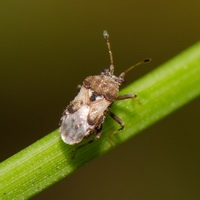insect: (59, 30, 150, 144)
